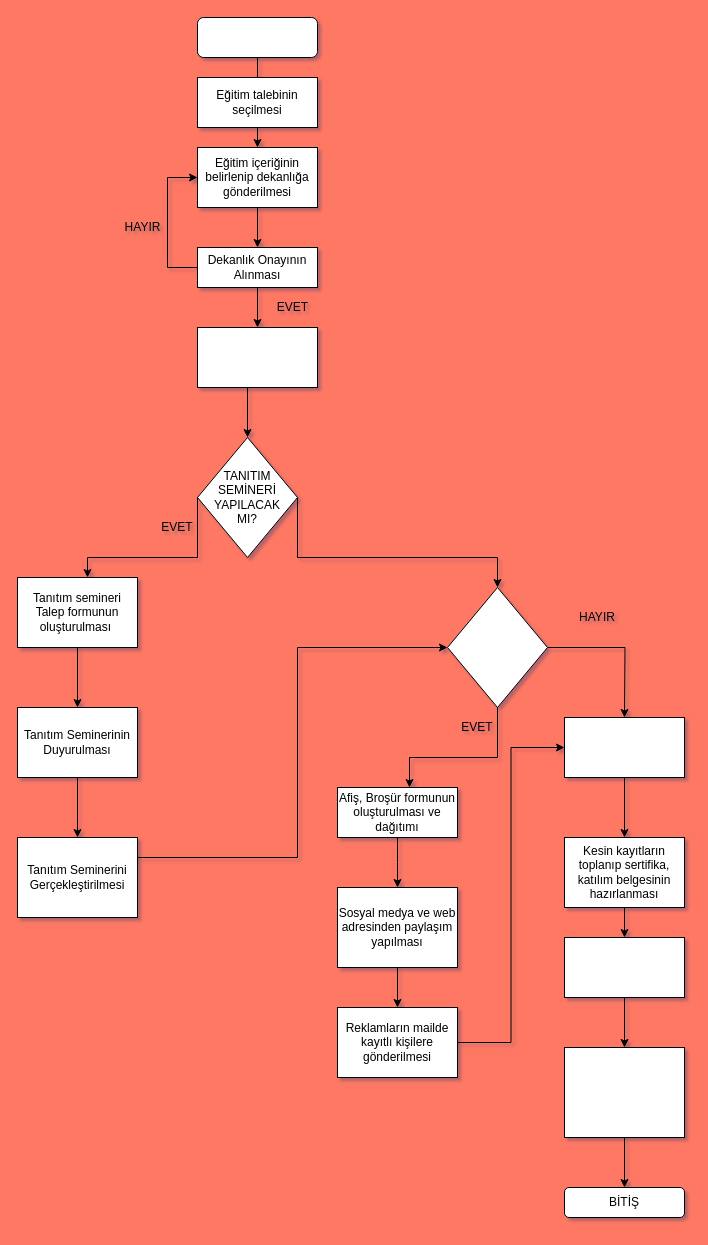
Image size: 708x1245. Some labels were removed from this diagram. The centre of each missing label's shape, as x and y in pixels:
Afiş,Broşür Yapılacak mı: point 497,647
Başla: point 257,37
Eğitim Tarihi,Süresi ve Yerinin Belirlenmesi: point 257,357
Eğitimin gerçekleştirilmesi: point 624,967
Eğitimin sonlandırılması ve sertifika, katılım belgelerinin dağıtılması: point 624,1092
Ön kayıtların alınması: point 624,747
